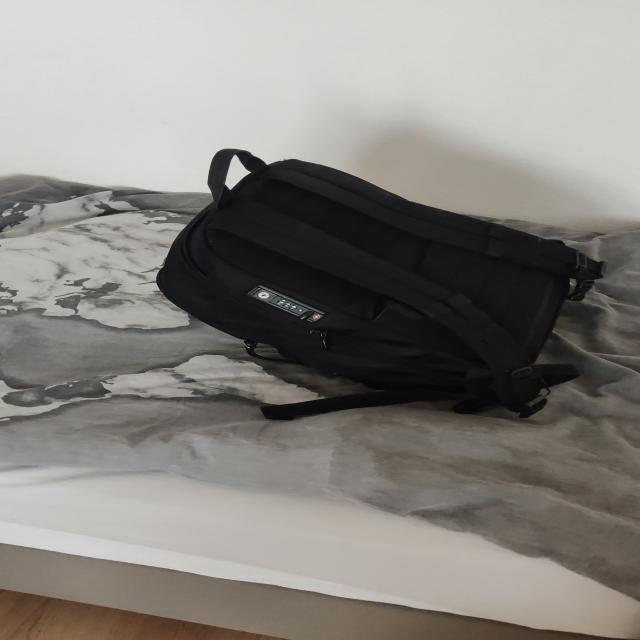backpack: (139, 139, 614, 421)
